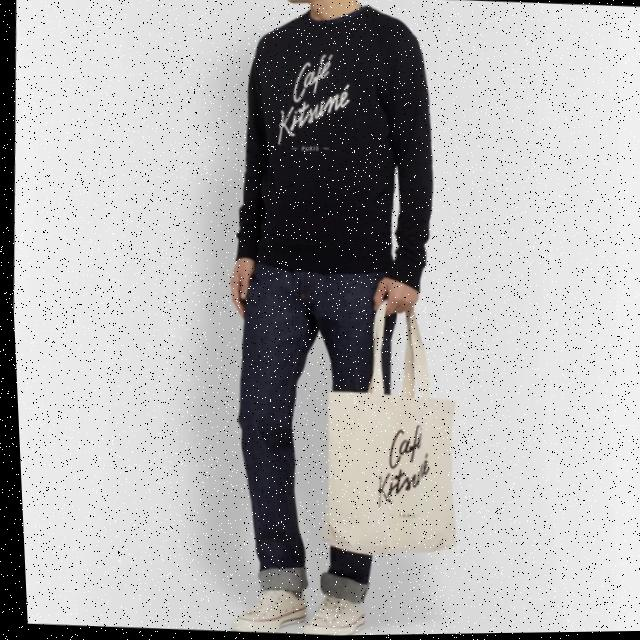ecobag: (301, 274, 488, 573)
